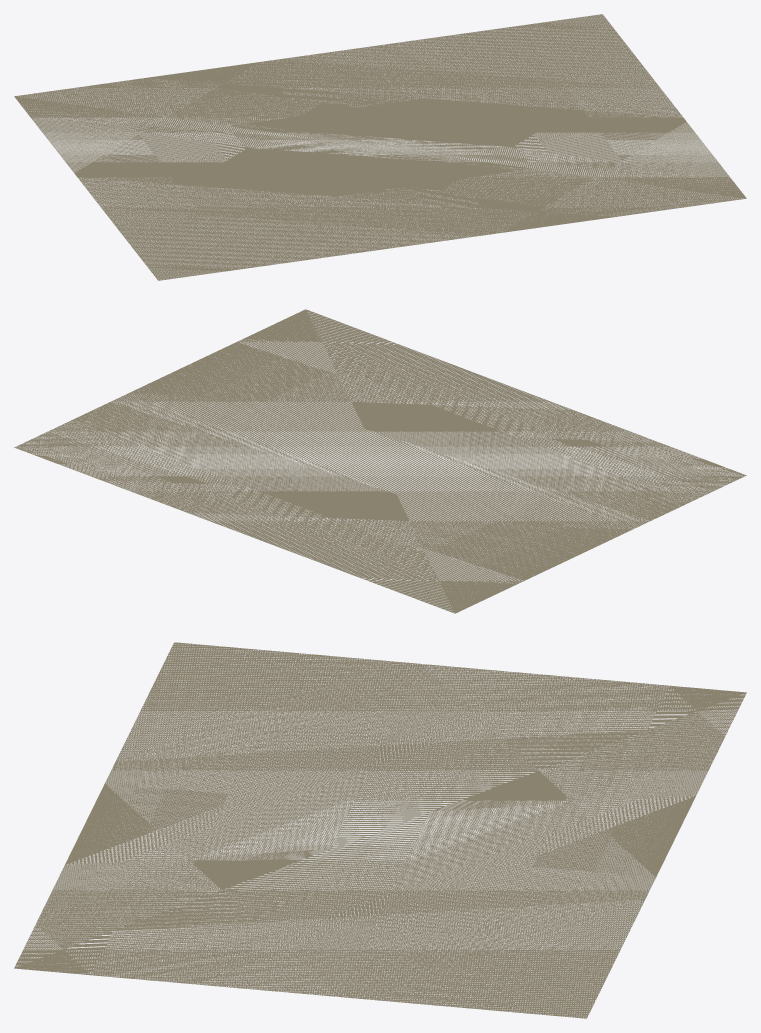
File: 大本钟118.dae
3 views of the same model, one above another, from view 1: azimuth 30°, elevation 25°; view 2: azimuth 150°, elevation 25°; view 3: azimuth 270°, elevation 25° (orthographic). The views are drawn at different scales.
Parts seen in each view (by area): view 1: SketchUp; view 2: SketchUp; view 3: SketchUp.
Part boxes in pixels (x1,y1,x2,y2): SketchUp: (14,14,746,280); SketchUp: (14,309,746,613); SketchUp: (14,642,746,1018).
Bounding box in the file's own units: 45.13 × 37.13 × 0.
